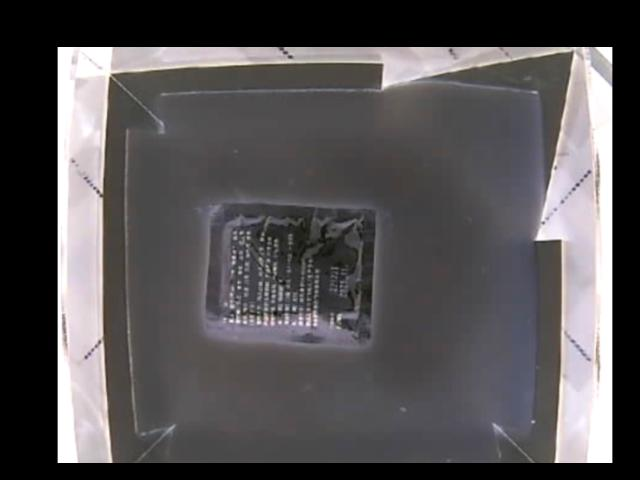Medicine: (204, 201, 372, 346)
